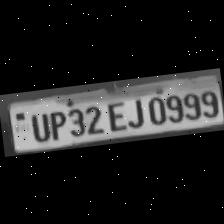0: (142, 92, 166, 126)
2: (80, 101, 104, 136)
3: (64, 103, 86, 138)
9: (196, 86, 219, 118), (162, 91, 184, 124), (180, 89, 202, 122)
E: (102, 97, 127, 132)
J: (123, 94, 145, 128)
P: (45, 107, 67, 141)
U: (26, 110, 50, 142)
